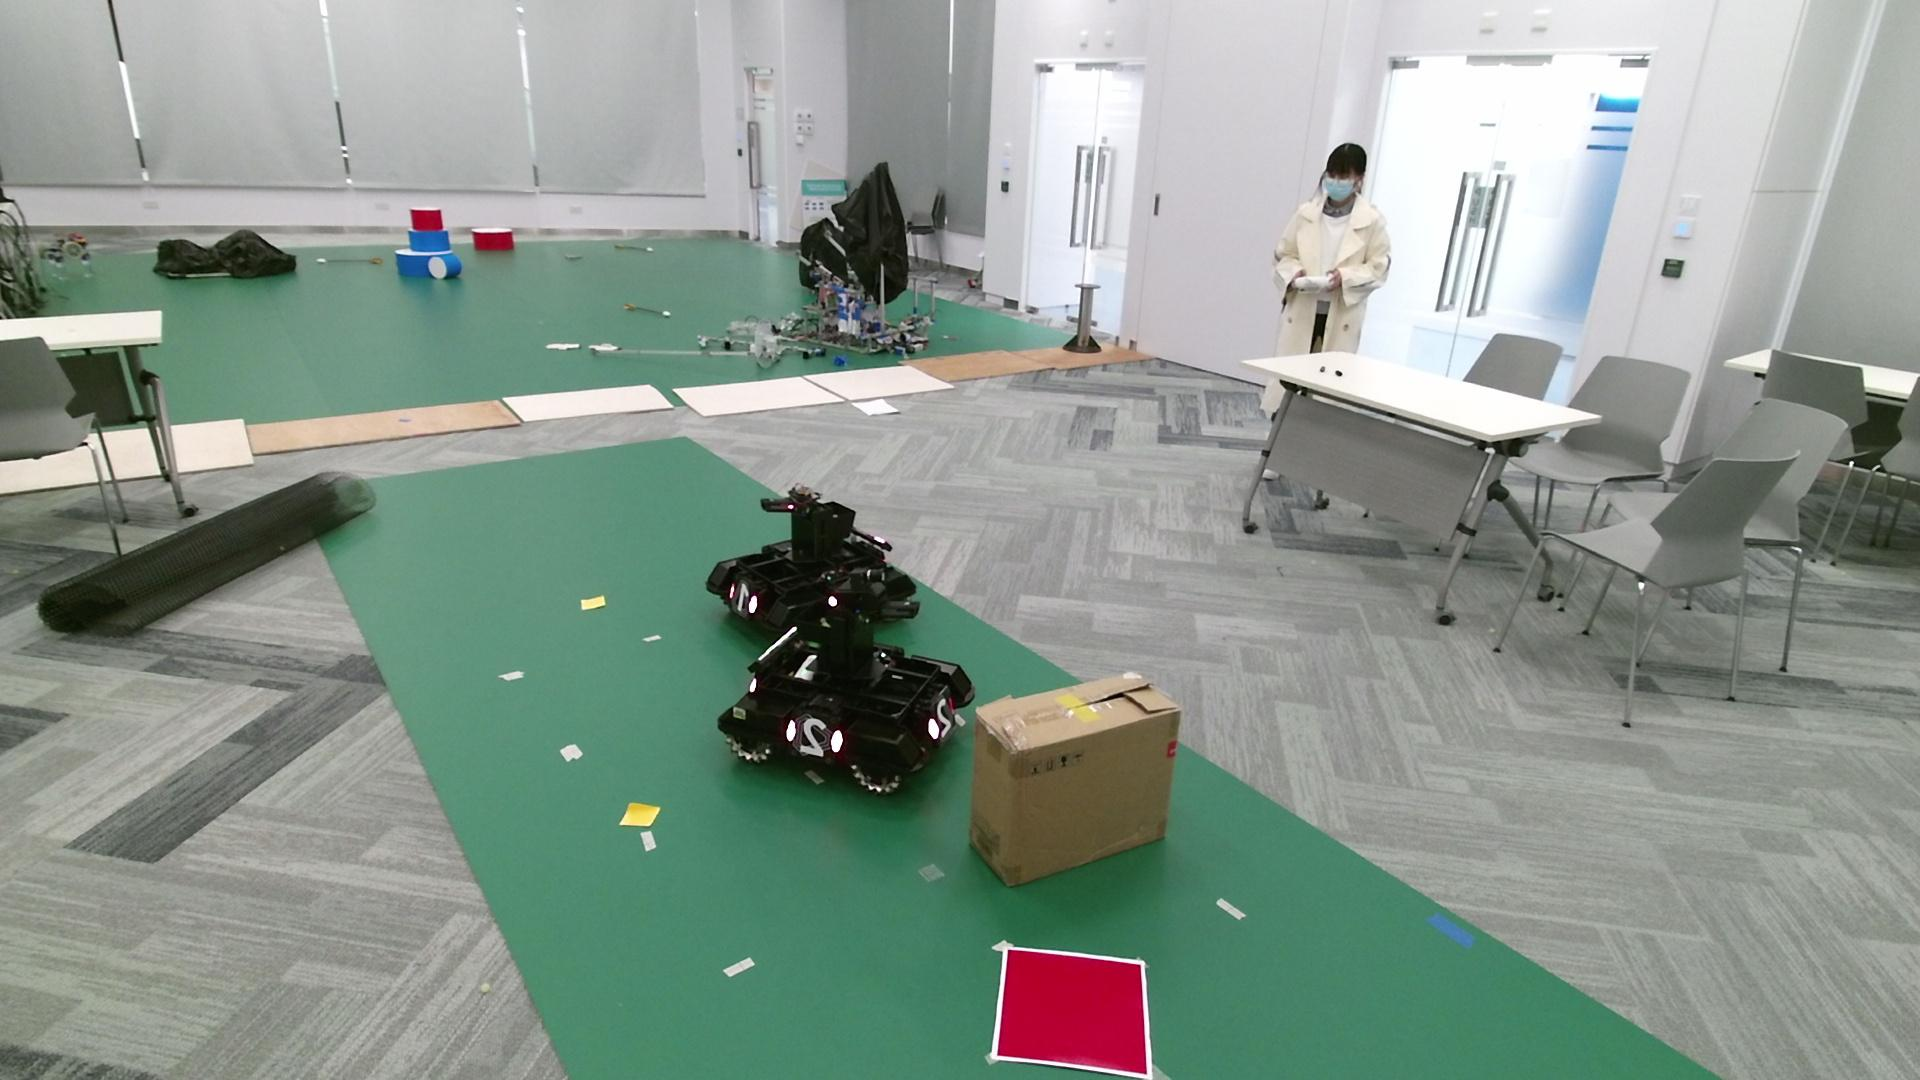robot: (716, 566, 977, 796), (705, 487, 918, 640)
